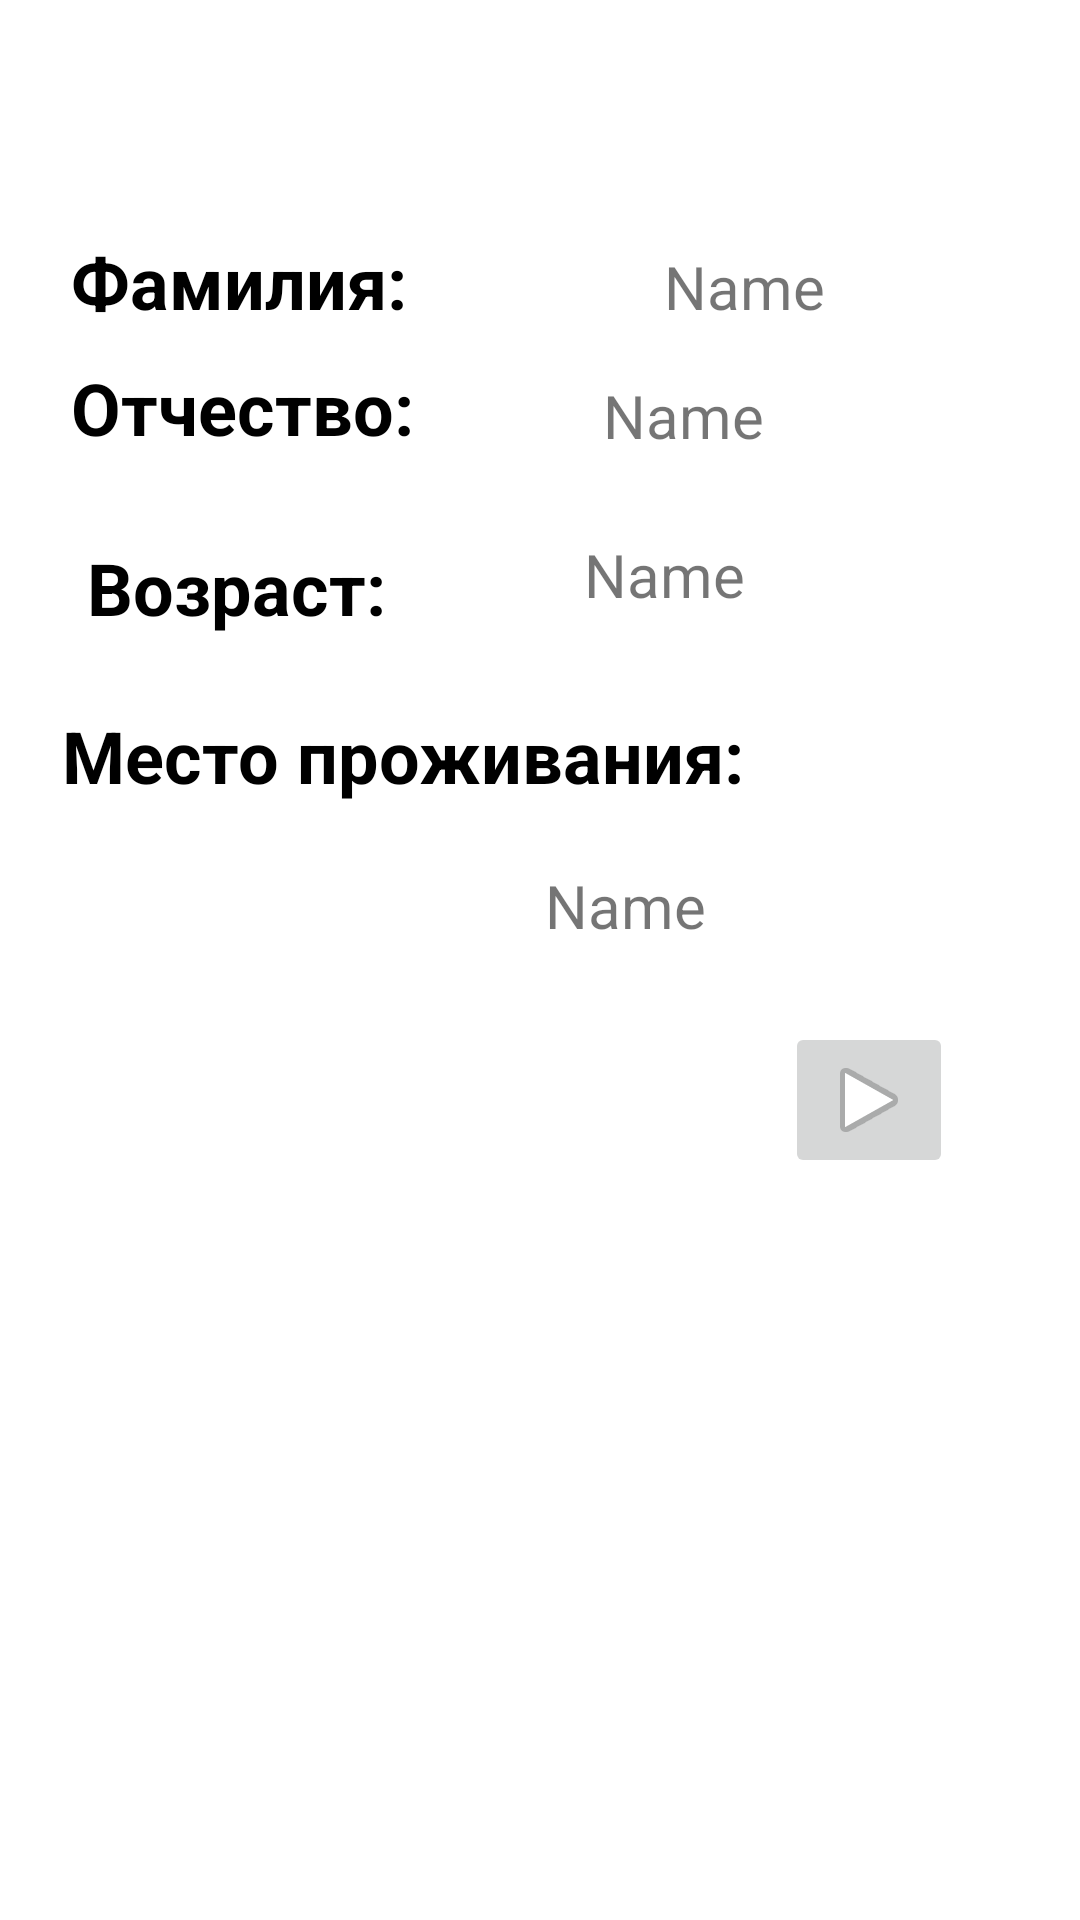

Screen size 1080*1920. Icon name, then its center in pixels as [x,y]:
play: [869,1100]
